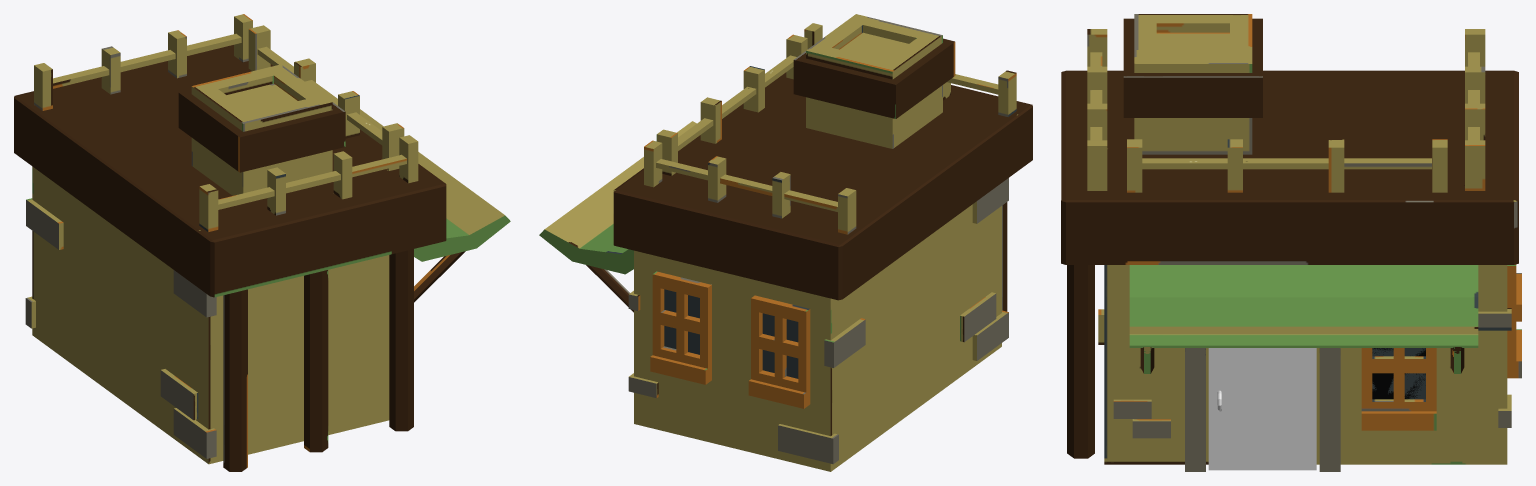
Rendered from M_NPC1_210330.fbx.
3 renders of one model, left to right at view 1: azimuth 30°, elevation 25°; view 2: azimuth 150°, elevation 25°; view 3: azimuth 270°, elevation 25°, orthographic. The views are drawn at different scales.
Visible parts, largest first — view 1: Main body; view 2: Main body; view 3: Main body, Door.
Part boxes in pixels (<box>): Main body: <box>14,14,510,471</box>; Main body: <box>539,14,1032,471</box>; Main body: <box>1061,14,1521,471</box>; Door: <box>1208,348,1316,470</box>.
Size of the model in its own units: 1152 by 1069 by 1224.
